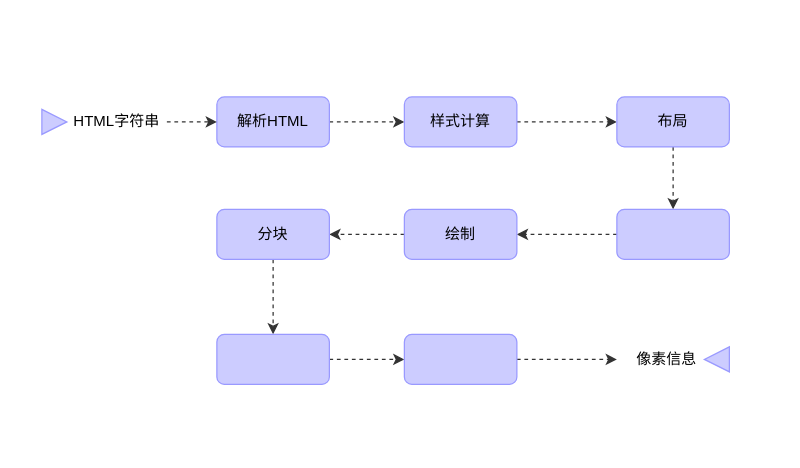
This 800x468 diagram has some shape labels left out. The box of each missing label's shape, as (x1, y1, x2, y2) in pixels:
光栅化 （栅格化）: (216, 333, 329, 384)
分层: (616, 208, 729, 259)
画 （draw): (403, 333, 517, 384)
